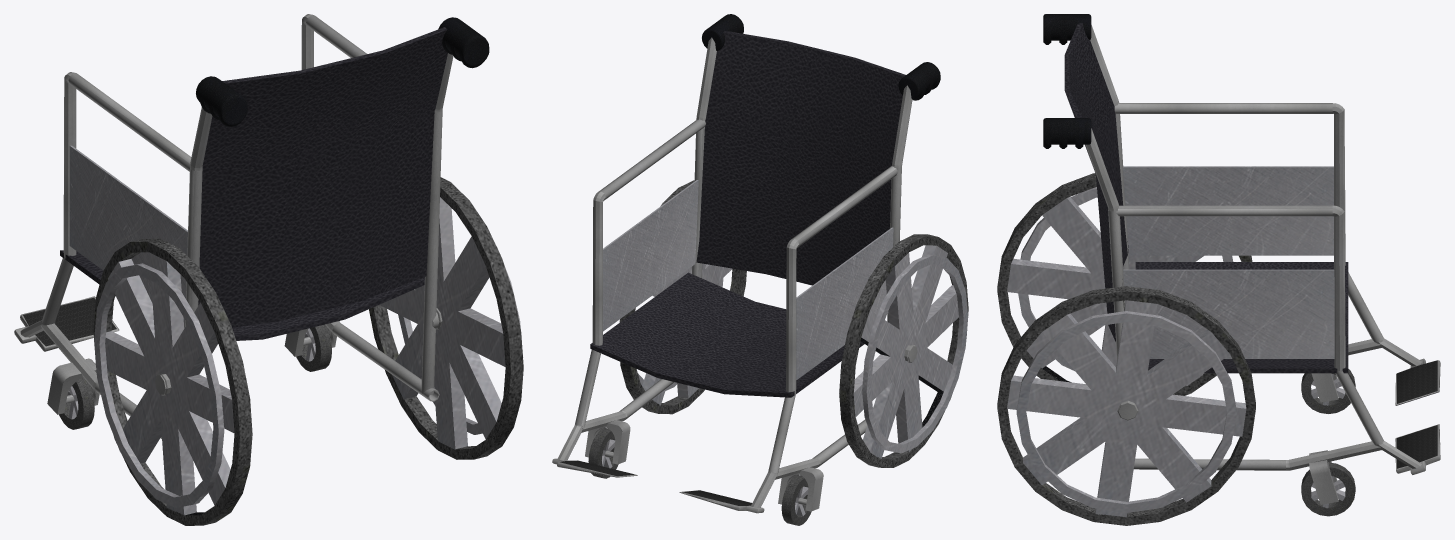
The model's file is WheelChair.FBX.
The picture shows the model from 3 angles, left to right: view 1: azimuth 30°, elevation 25°; view 2: azimuth 150°, elevation 25°; view 3: azimuth 270°, elevation 25°; orthographic projection. The views are drawn at different scales.
Visible parts, largest first — view 1: Tube001; view 2: Tube001; view 3: Tube001.
Part boxes in pixels (x1,y1,x2,y2): Tube001: (14, 14, 523, 525); Tube001: (552, 14, 968, 525); Tube001: (997, 14, 1440, 525).
Size of the model in its own units: 32.39 by 45.78 by 46.27.
Materials: 1 (1 with a texture image).
